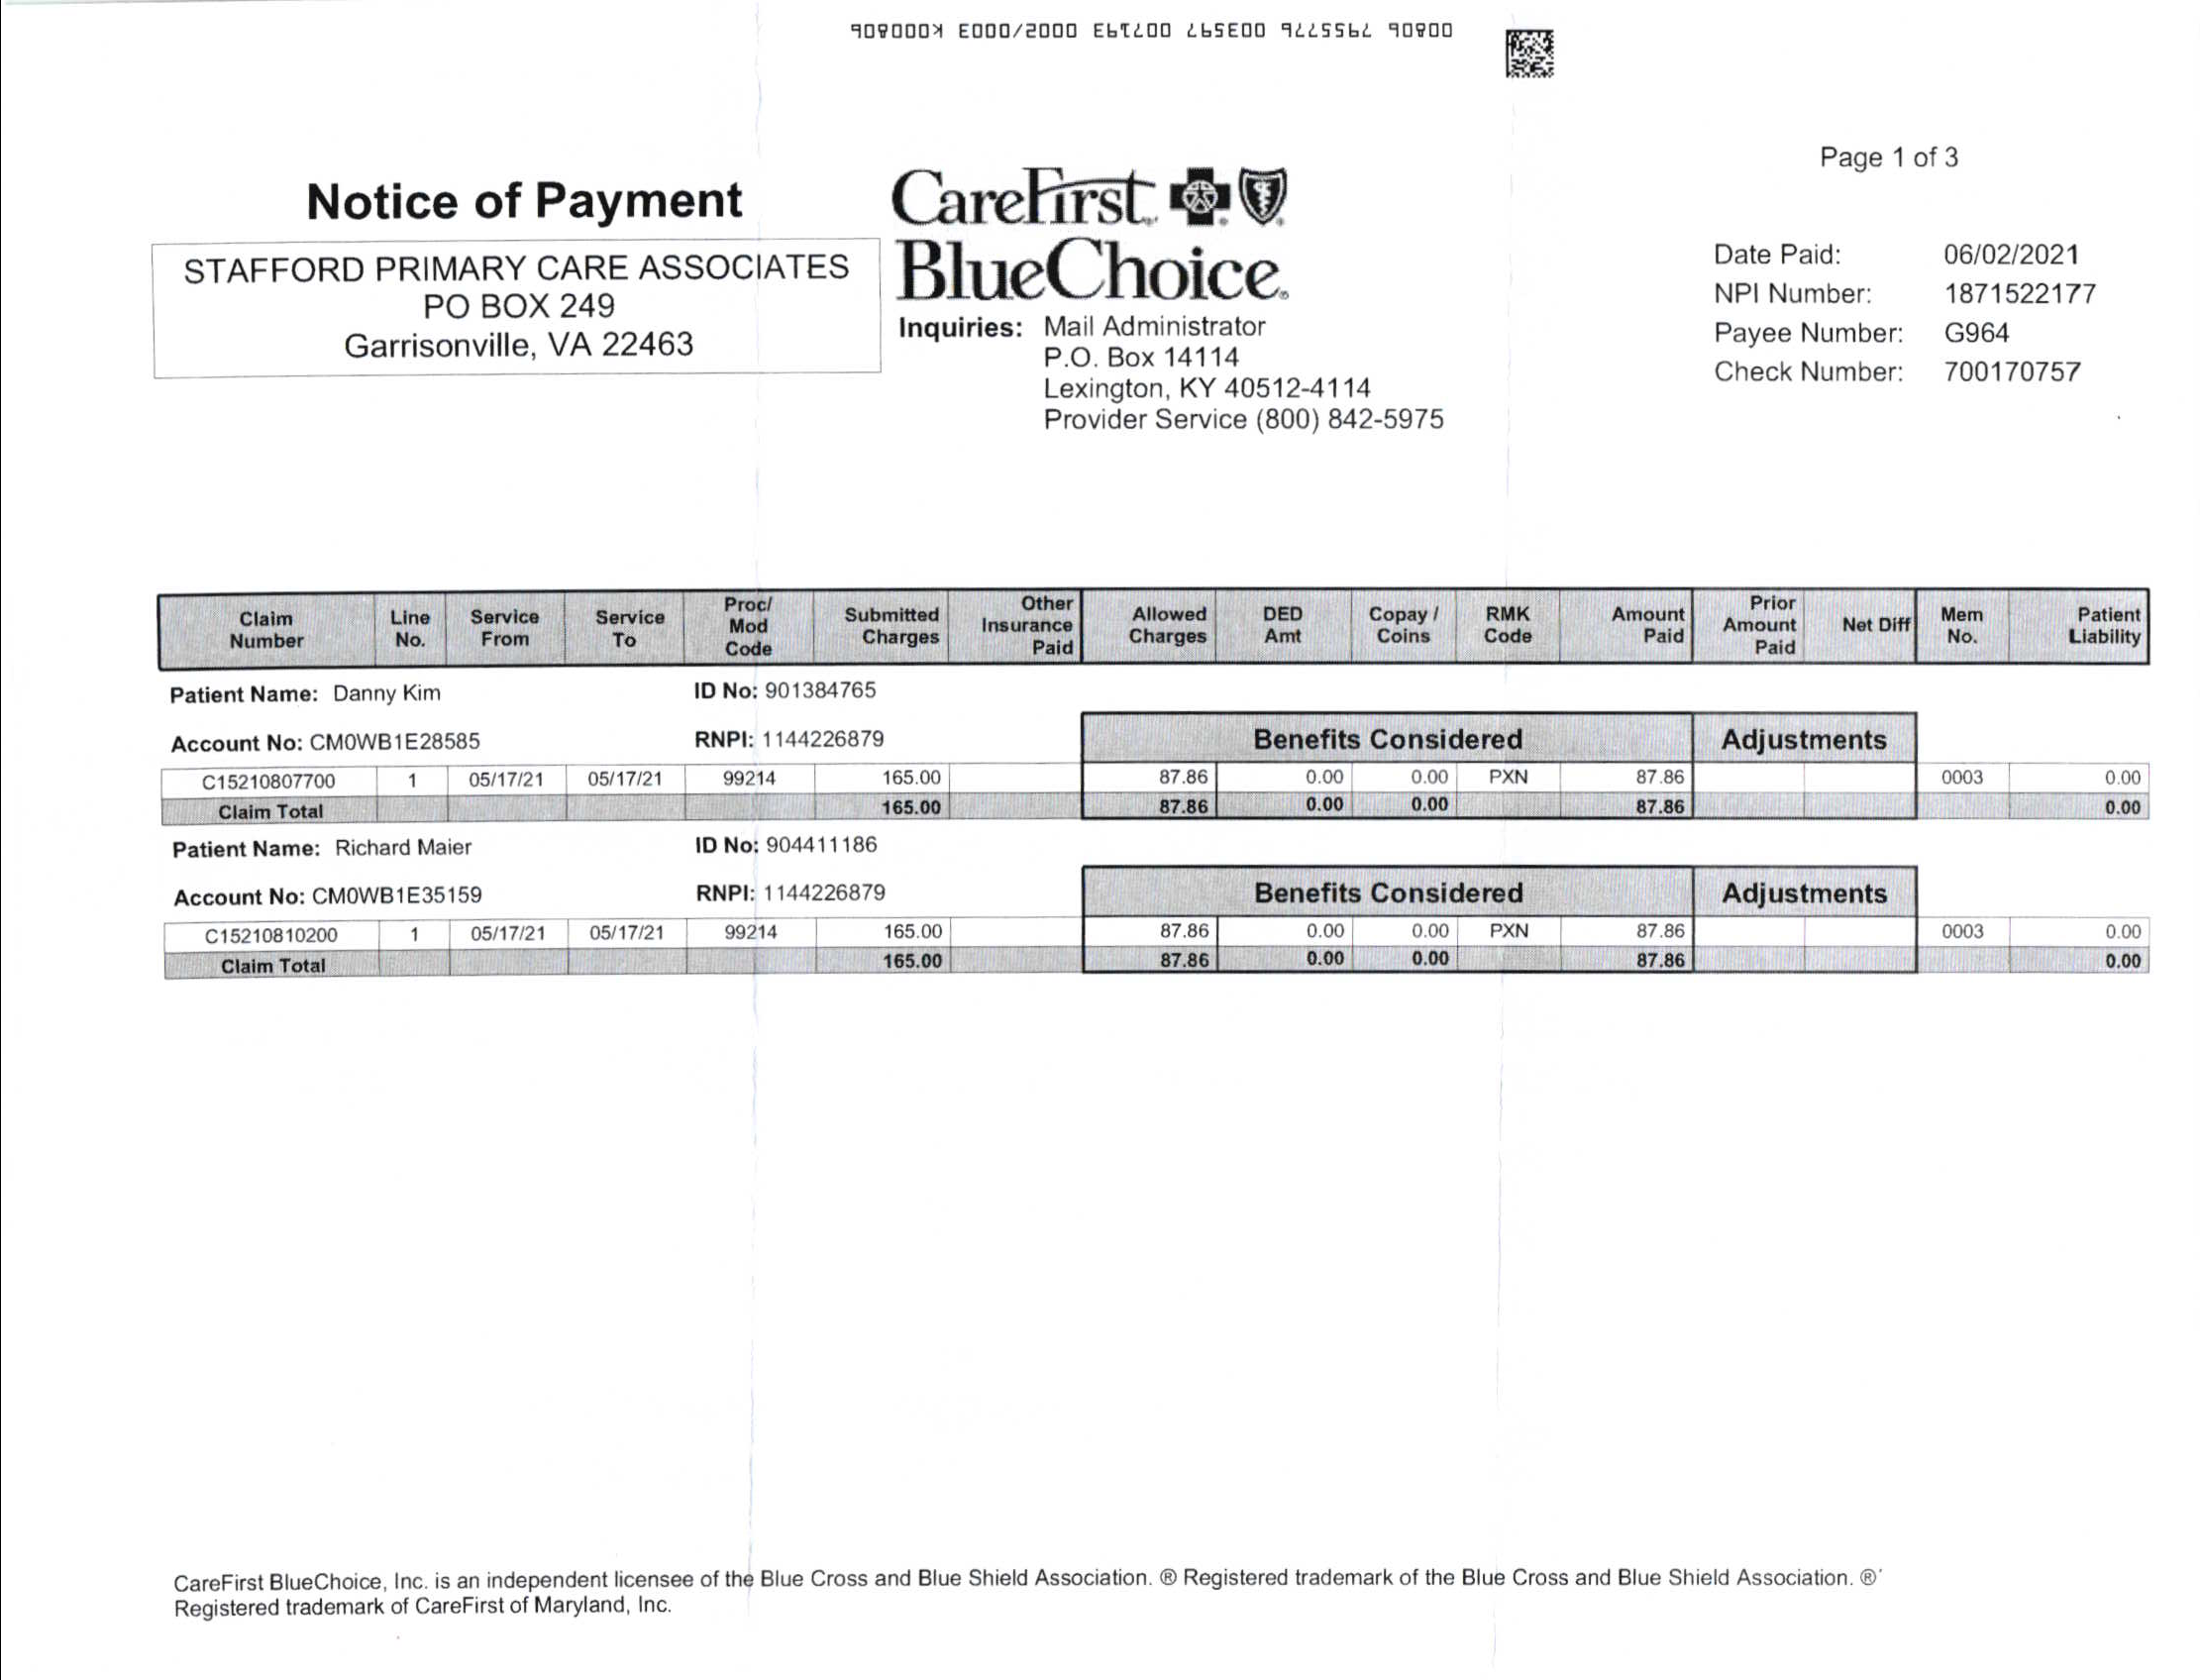data: (1697, 240, 2108, 401), (161, 681, 505, 766), (162, 836, 506, 918), (690, 822, 905, 914), (685, 672, 902, 761)
table: (134, 579, 2170, 1004)
